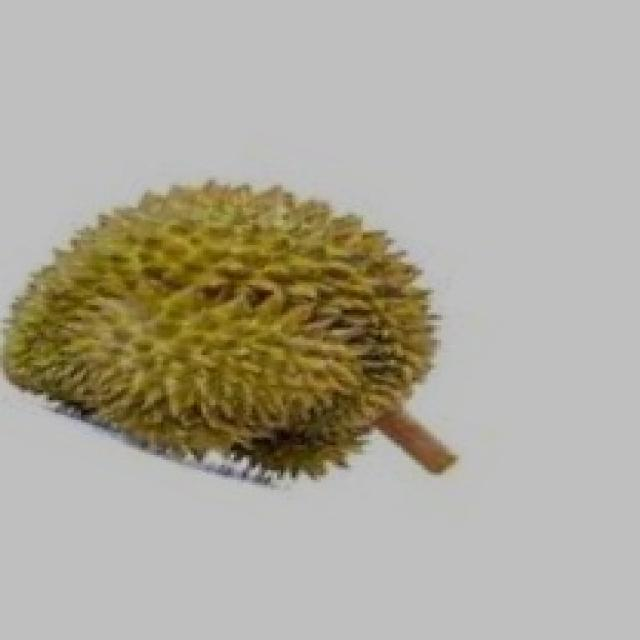fruit: (3, 138, 385, 528)
